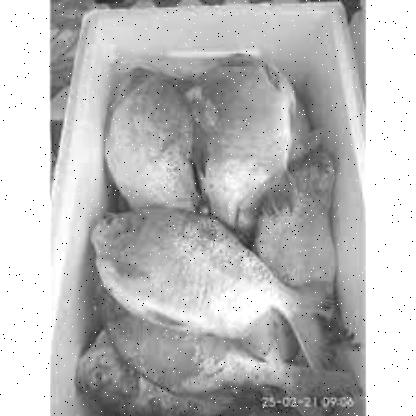ikan-pacu: (86, 207, 312, 345), (194, 50, 298, 214), (100, 65, 192, 215)
